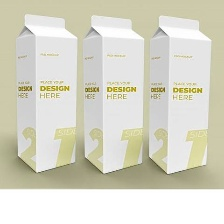carton: (146, 12, 215, 176), (13, 11, 78, 175), (82, 14, 147, 176)
